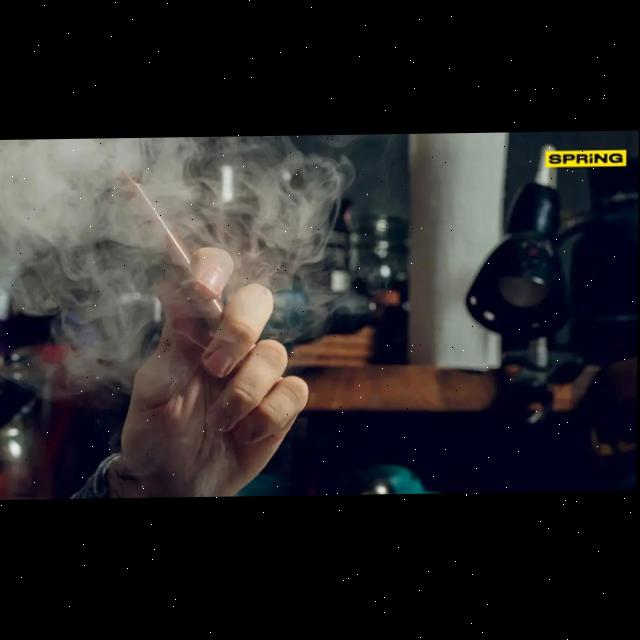vape: (110, 172, 225, 334)
